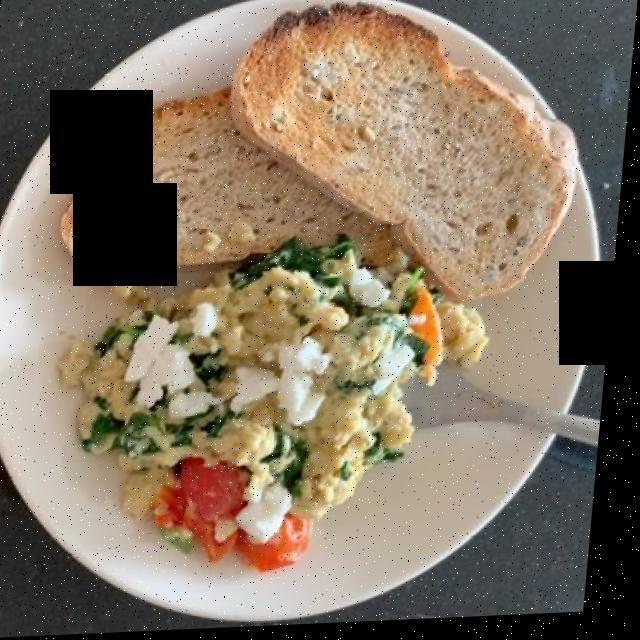bread: (67, 26, 587, 316)
cheese: (130, 314, 436, 549)
eggs: (71, 263, 501, 553)
tomato: (160, 456, 329, 568)
